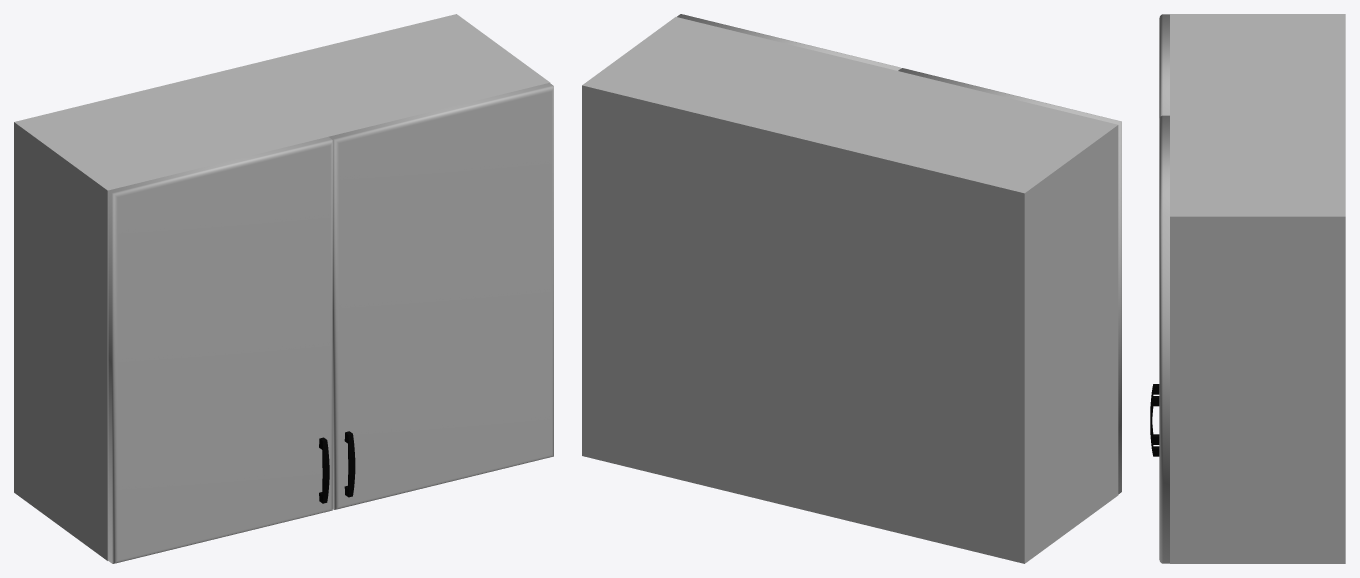
3 views of the same model, side by side, from view 1: azimuth 30°, elevation 25°; view 2: azimuth 150°, elevation 25°; view 3: azimuth 270°, elevation 25° (orthographic). The views are drawn at different scales.
Visible parts, largest first — view 1: Box011, Box012, Box001; view 2: Box001, Box011, Box012; view 3: Box001, Box012, Box011, Obj3d66-503491-2-345.
Part boxes in pixels (x1,y1,x2,y2): Box011: [108, 137, 332, 563]; Box012: [329, 83, 553, 509]; Box001: [14, 14, 550, 560]; Box001: [582, 17, 1118, 563]; Box011: [898, 68, 1121, 494]; Box012: [677, 14, 900, 70]; Box001: [1170, 14, 1345, 563]; Box012: [1159, 115, 1169, 563]; Box011: [1159, 14, 1169, 118]; Obj3d66-503491-2-345: [1150, 396, 1159, 456].
Size of the model in its own units: 0.9 by 0.72 by 0.3671.
Materials: 2 (1 with a texture image).
